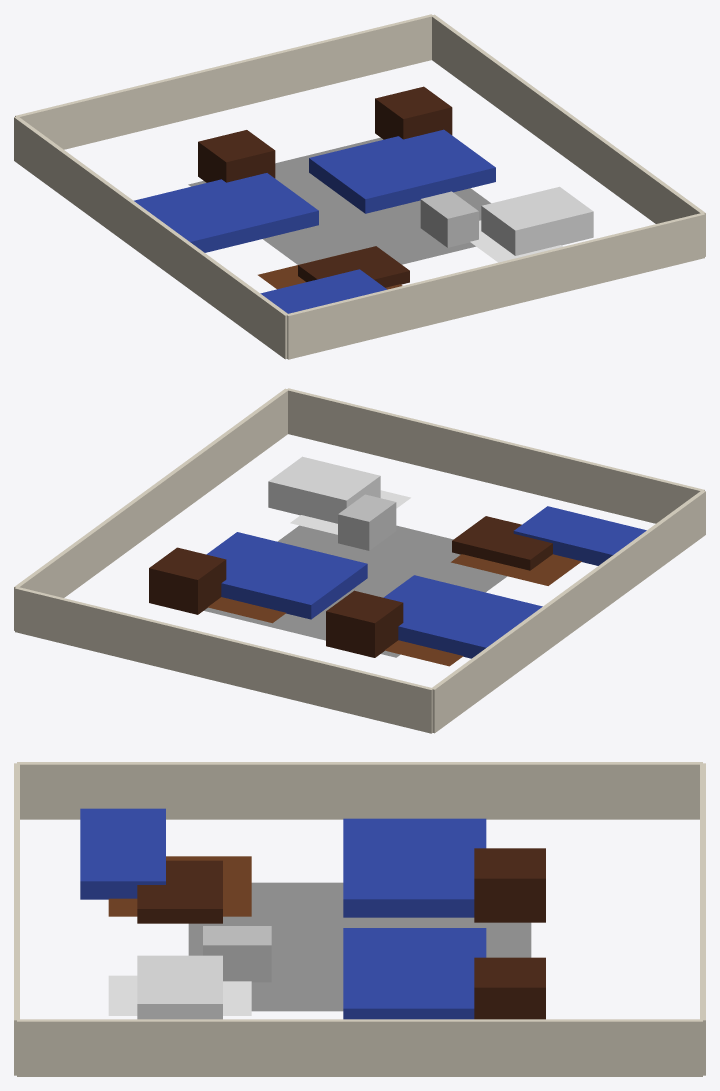
Rendered from boq_professional_730c8fe6-20b5-48b4-ad62-7223c13591cd.obj.
3 views of the same model, one above another, from view 1: azimuth 30°, elevation 25°; view 2: azimuth 150°, elevation 25°; view 3: azimuth 270°, elevation 25° (orthographic). The views are drawn at different scales.
Parts seen in each view (by area): view 1: ExteriorWall_South, ExteriorWall_North, ExteriorWall_West, ExteriorWall_East, Bed_Bedroom_2, Foundation, Bed_Bedroom_1, Counter_Kitchen_1, Wardrobe_Bedroom_1, Wardrobe_Bedroom_2, Sofa_Living_Room_1, Fridge_Kitchen_1 (+3 smaller); view 2: ExteriorWall_North, ExteriorWall_South, ExteriorWall_West, ExteriorWall_East, Bed_Bedroom_2, Foundation, Bed_Bedroom_1, Counter_Kitchen_1, Sofa_Living_Room_1, Wardrobe_Bedroom_2, Wardrobe_Bedroom_1, CoffeeTable_Living_Room_1 (+5 smaller); view 3: ExteriorWall_East, ExteriorWall_West, Foundation, Bed_Bedroom_1, Bed_Bedroom_2, Sofa_Living_Room_1, Counter_Kitchen_1, Wardrobe_Bedroom_1, CoffeeTable_Living_Room_1, Wardrobe_Bedroom_2, Fridge_Kitchen_1, Floor_Living_Room_1 (+3 smaller).
Boxes of the visible parts, bbox=[...] form: ExteriorWall_South: bbox=[286, 213, 704, 359]; ExteriorWall_North: bbox=[15, 14, 433, 149]; ExteriorWall_West: bbox=[14, 116, 288, 359]; ExteriorWall_East: bbox=[432, 14, 705, 256]; Bed_Bedroom_2: bbox=[309, 129, 495, 213]; Foundation: bbox=[188, 137, 490, 264]; Bed_Bedroom_1: bbox=[134, 173, 318, 252]; Counter_Kitchen_1: bbox=[481, 186, 593, 255]; Wardrobe_Bedroom_1: bbox=[198, 130, 275, 182]; Wardrobe_Bedroom_2: bbox=[375, 86, 452, 139]; Sofa_Living_Room_1: bbox=[260, 269, 386, 313]; Fridge_Kitchen_1: bbox=[420, 191, 478, 247]; ExteriorWall_North: bbox=[15, 586, 432, 733]; ExteriorWall_South: bbox=[286, 388, 704, 523]; ExteriorWall_West: bbox=[432, 491, 705, 733]; ExteriorWall_East: bbox=[14, 388, 287, 630]; Bed_Bedroom_2: bbox=[206, 532, 367, 619]; Foundation: bbox=[204, 525, 506, 657]; Bed_Bedroom_1: bbox=[383, 575, 542, 658]; Counter_Kitchen_1: bbox=[268, 456, 380, 523]; Sofa_Living_Room_1: bbox=[513, 506, 646, 565]; Wardrobe_Bedroom_2: bbox=[149, 547, 226, 614]; Wardrobe_Bedroom_1: bbox=[326, 590, 403, 657]; CoffeeTable_Living_Room_1: bbox=[452, 516, 552, 570]; ExteriorWall_East: bbox=[17, 1019, 702, 1076]; ExteriorWall_West: bbox=[17, 762, 702, 819]; Foundation: bbox=[188, 882, 531, 1011]; Bed_Bedroom_1: bbox=[343, 818, 486, 917]; Bed_Bedroom_2: bbox=[343, 928, 486, 1019]; Sofa_Living_Room_1: bbox=[80, 808, 165, 899]; Counter_Kitchen_1: bbox=[137, 955, 222, 1019]; Wardrobe_Bedroom_1: bbox=[474, 848, 545, 922]; CoffeeTable_Living_Room_1: bbox=[137, 860, 222, 923]; Wardrobe_Bedroom_2: bbox=[474, 957, 545, 1019]; Fridge_Kitchen_1: bbox=[203, 926, 271, 982]; Floor_Living_Room_1: bbox=[108, 856, 251, 916].
Size of the model in its own units: 30.3 by 3 by 34.12.
